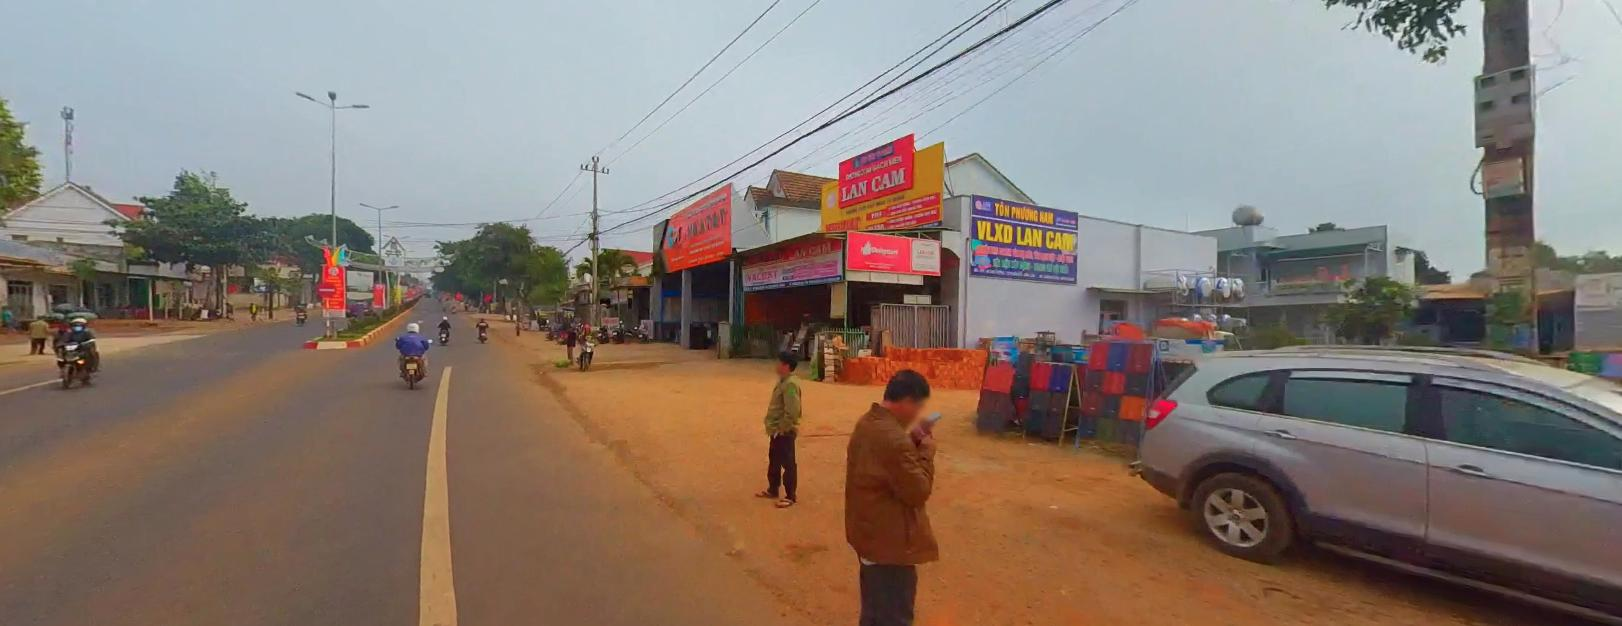Cam nguoc chieu: (316, 280, 335, 295)
